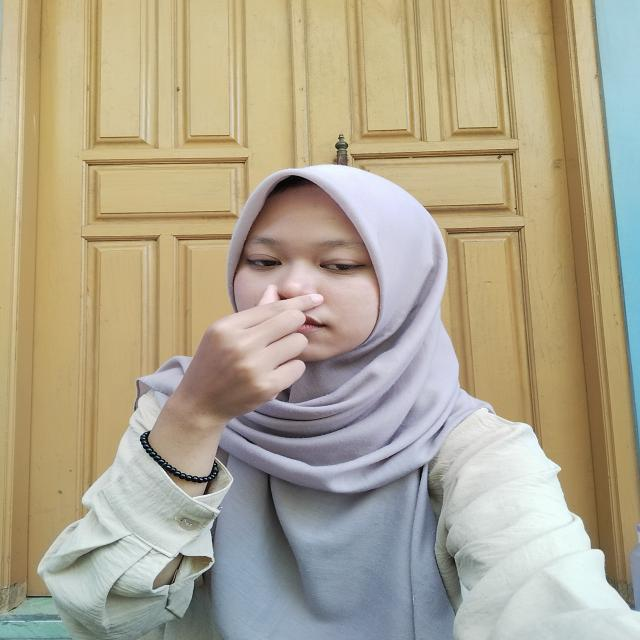bau: (151, 271, 338, 433)
